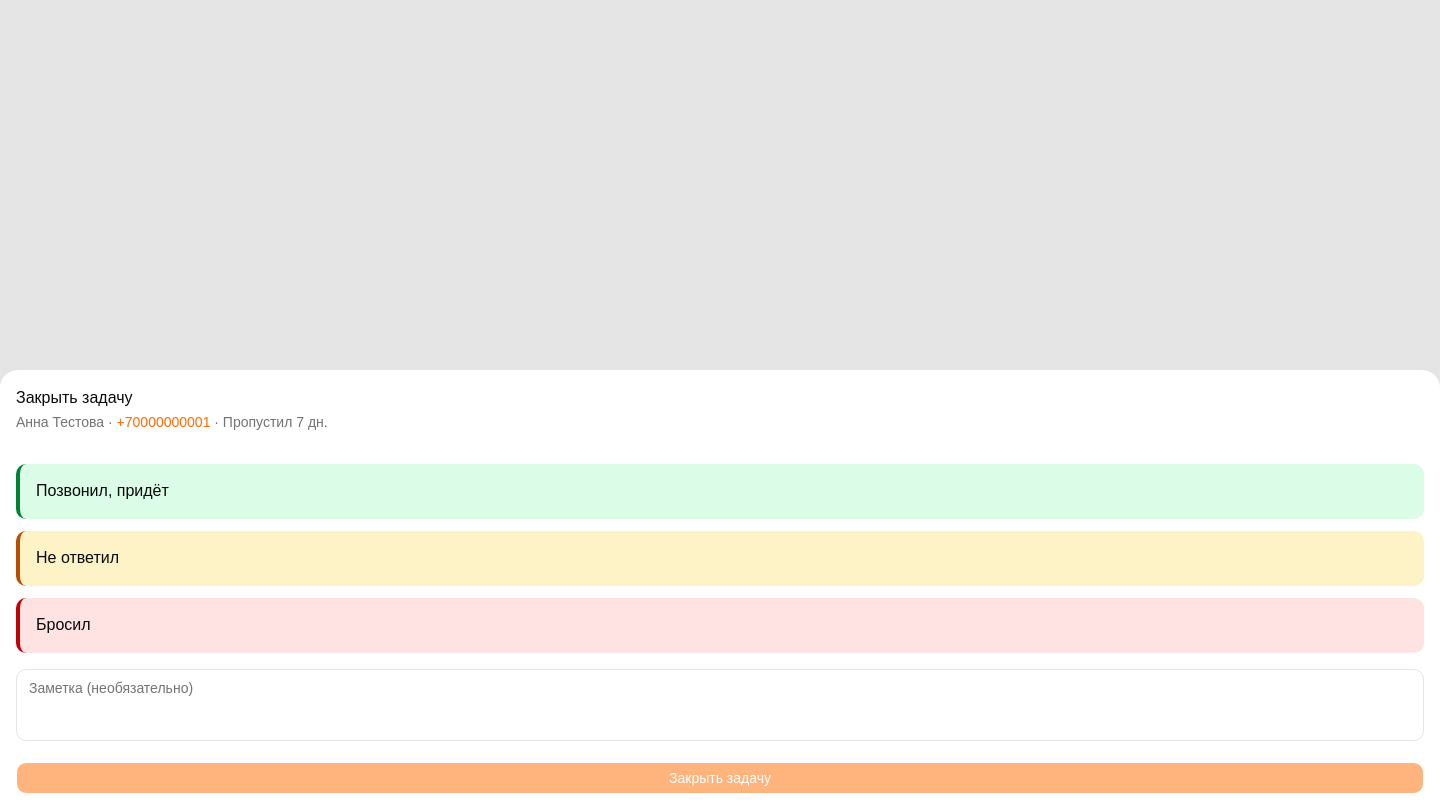
Test case: ResolutionSheet › keeps the sheet open and shows an error when closing a task fails
The width and height of the screenshot is (1440, 810).
Click the button "Позвонил, придёт".
click(102, 491)  # box [16,464,1424,519]
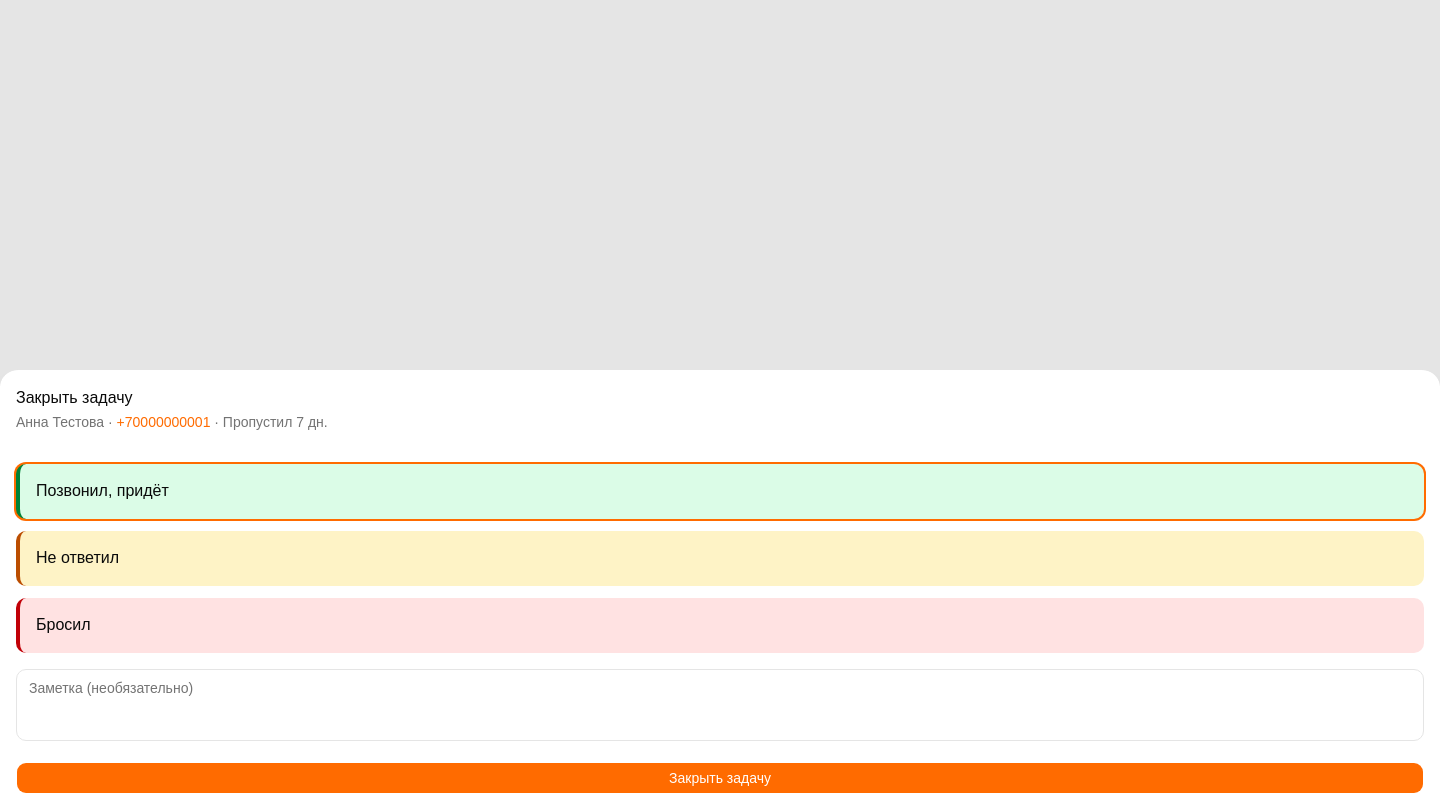
Click the button "Закрыть задачу".
click(720, 778)  # box [16,762,1424,794]
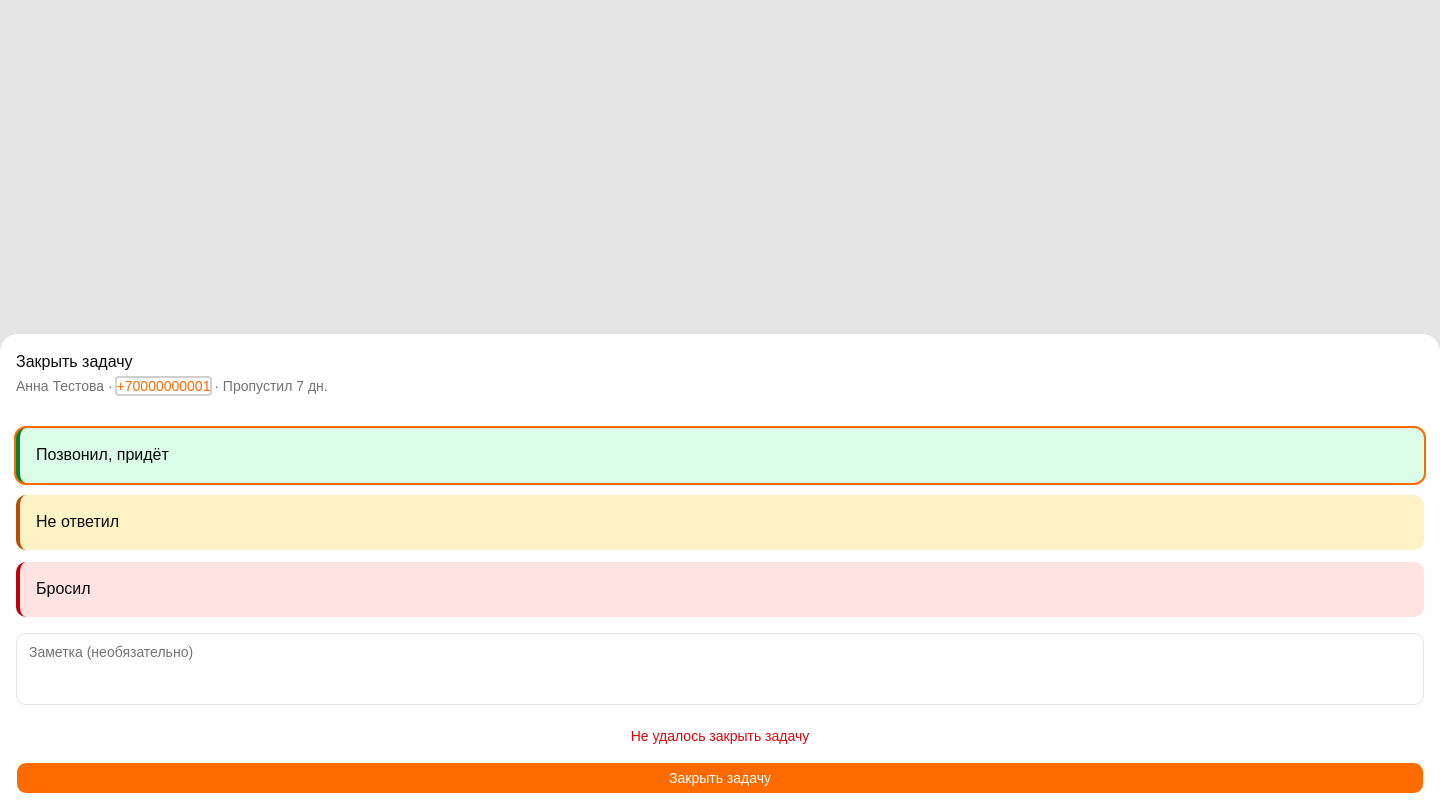
Check: the text "Не удалось закрыть задачу" is shown, box [631,728,809,744]
